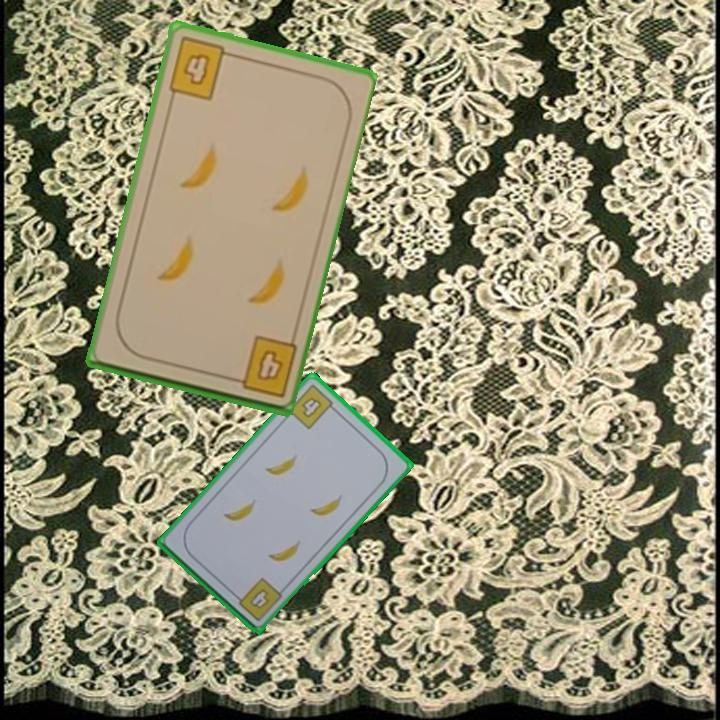4b: (224, 332, 299, 401), (164, 33, 237, 103), (285, 380, 340, 432), (248, 585, 272, 609)
